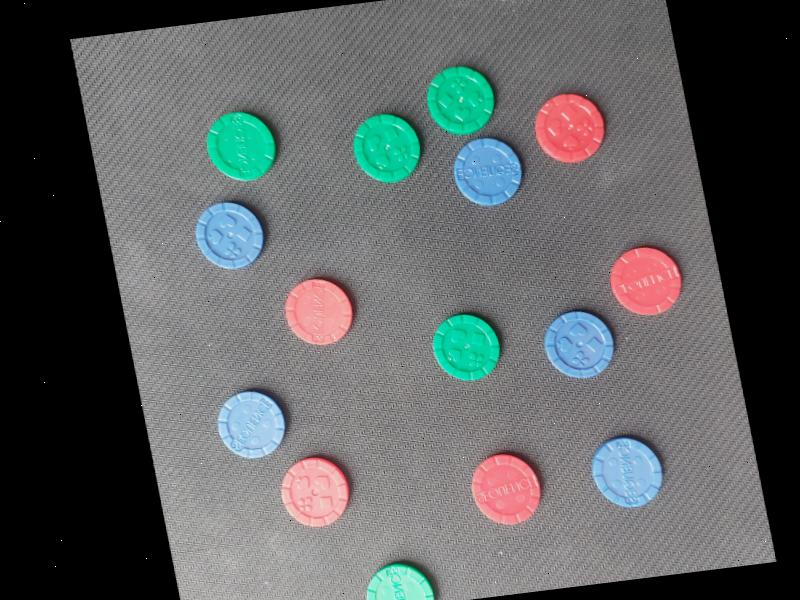Blue_Token: (565, 406, 703, 532), (182, 373, 320, 475), (179, 184, 296, 289), (437, 132, 543, 230), (535, 300, 625, 390)
Green_Token: (312, 91, 439, 212), (183, 99, 299, 197), (406, 50, 516, 140), (424, 296, 515, 402), (324, 539, 468, 600)
Red_Token: (586, 224, 716, 344), (252, 439, 380, 545), (507, 71, 618, 185), (458, 434, 552, 542), (274, 267, 363, 357)
